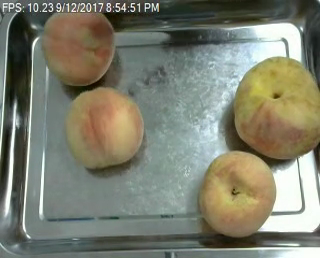Peach: (231, 55, 320, 158), (197, 149, 277, 238), (65, 85, 144, 169), (41, 4, 115, 86)
